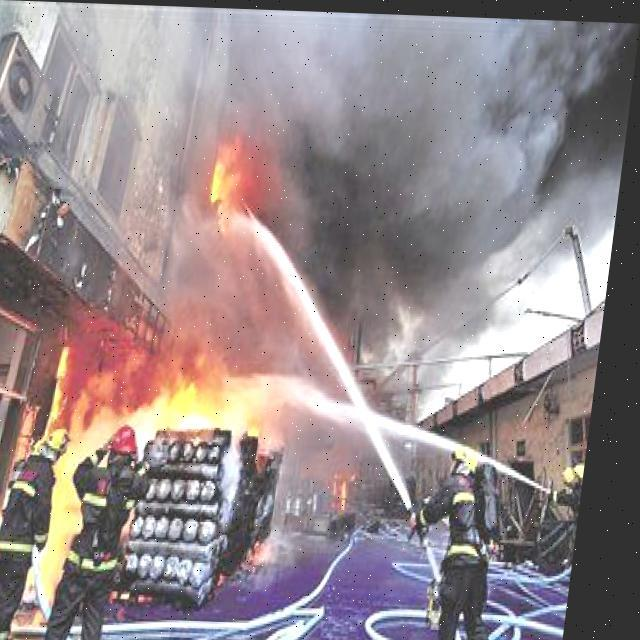Fire: (29, 326, 278, 598), (202, 128, 274, 228)
